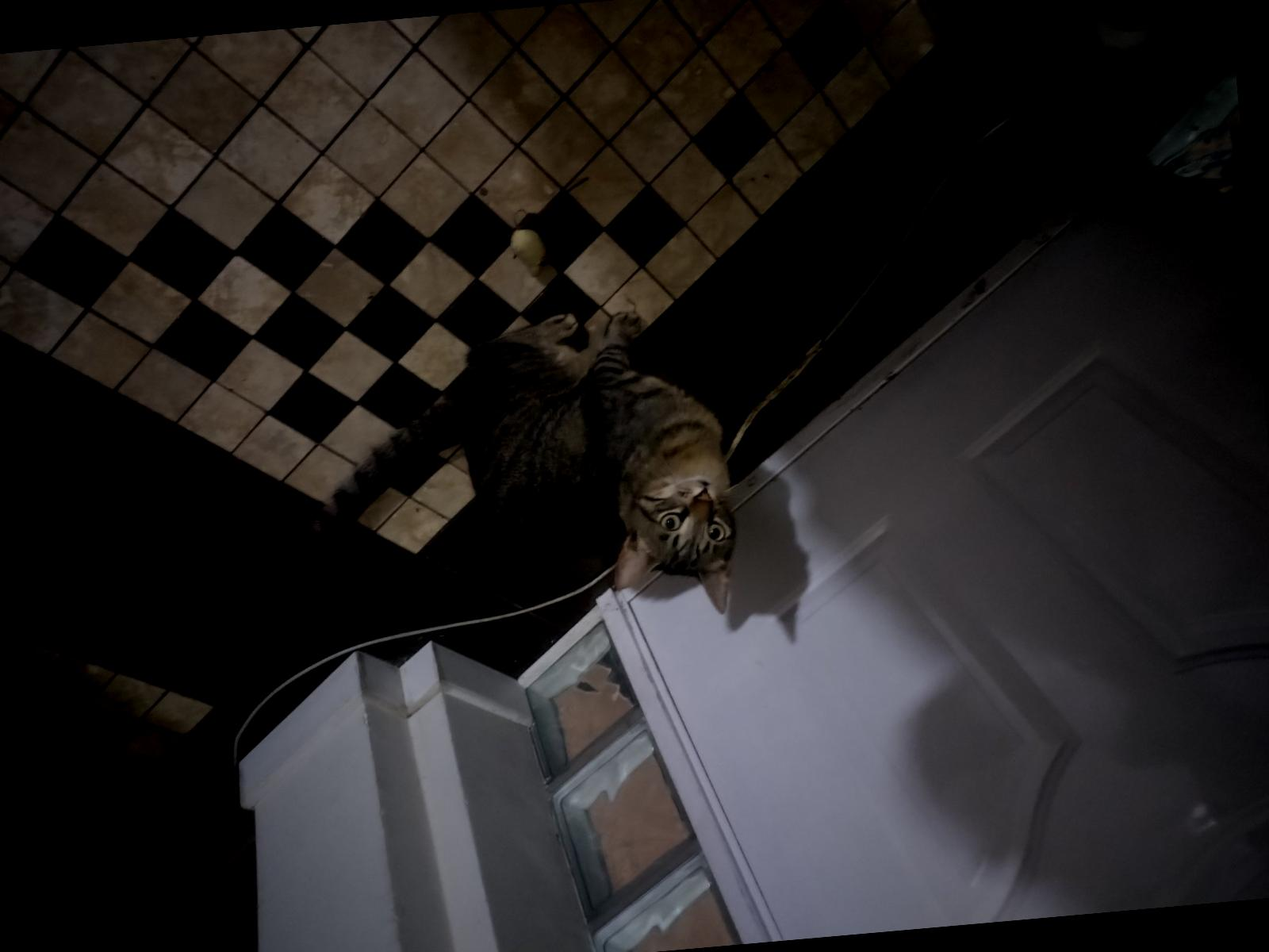macka: (280, 299, 747, 651)
